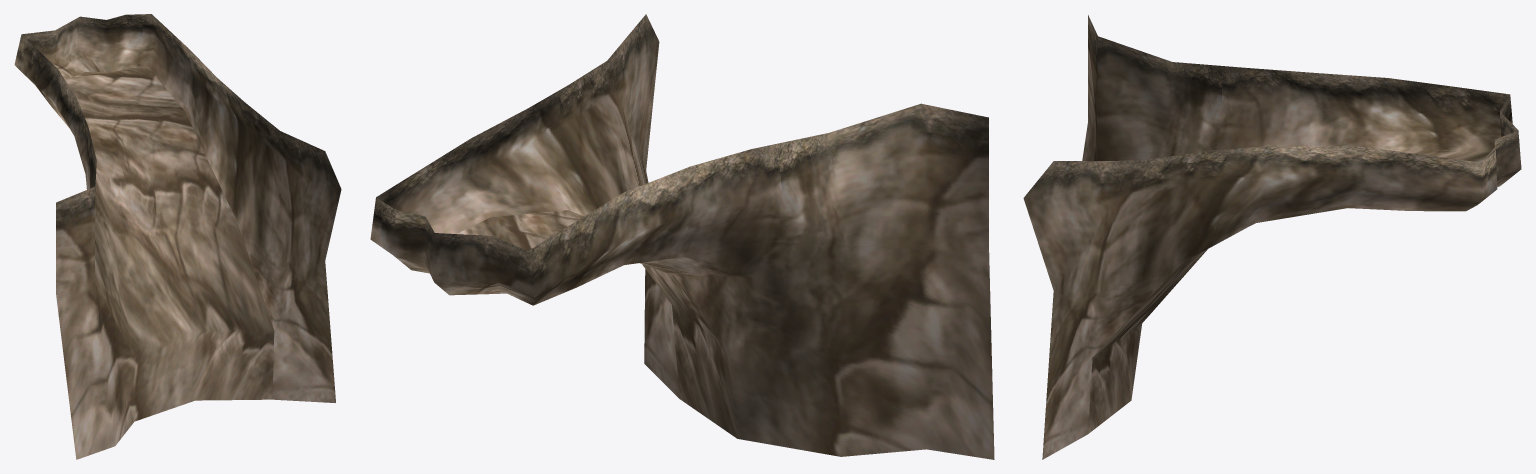
Rendered from OVERHILL_A_01_ROCK_FACE_22.fbx.
3 views of the same model, side by side, from view 1: azimuth 30°, elevation 25°; view 2: azimuth 150°, elevation 25°; view 3: azimuth 270°, elevation 25° (orthographic). The views are drawn at different scales.
Visible parts, largest first — view 1: OVERHILL_A_01_ROCK_FACE_22; view 2: OVERHILL_A_01_ROCK_FACE_22; view 3: OVERHILL_A_01_ROCK_FACE_22.
Boxes of the visible parts, box(x1,y1,x2,y2) form: OVERHILL_A_01_ROCK_FACE_22: box(14, 14, 341, 459); OVERHILL_A_01_ROCK_FACE_22: box(370, 14, 994, 459); OVERHILL_A_01_ROCK_FACE_22: box(1023, 15, 1521, 459).
Bounding box in the file's own units: 25883 × 24126 × 35498.
2 materials, 2 textured.
